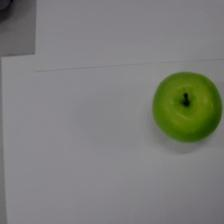green: (153, 72, 222, 143)
